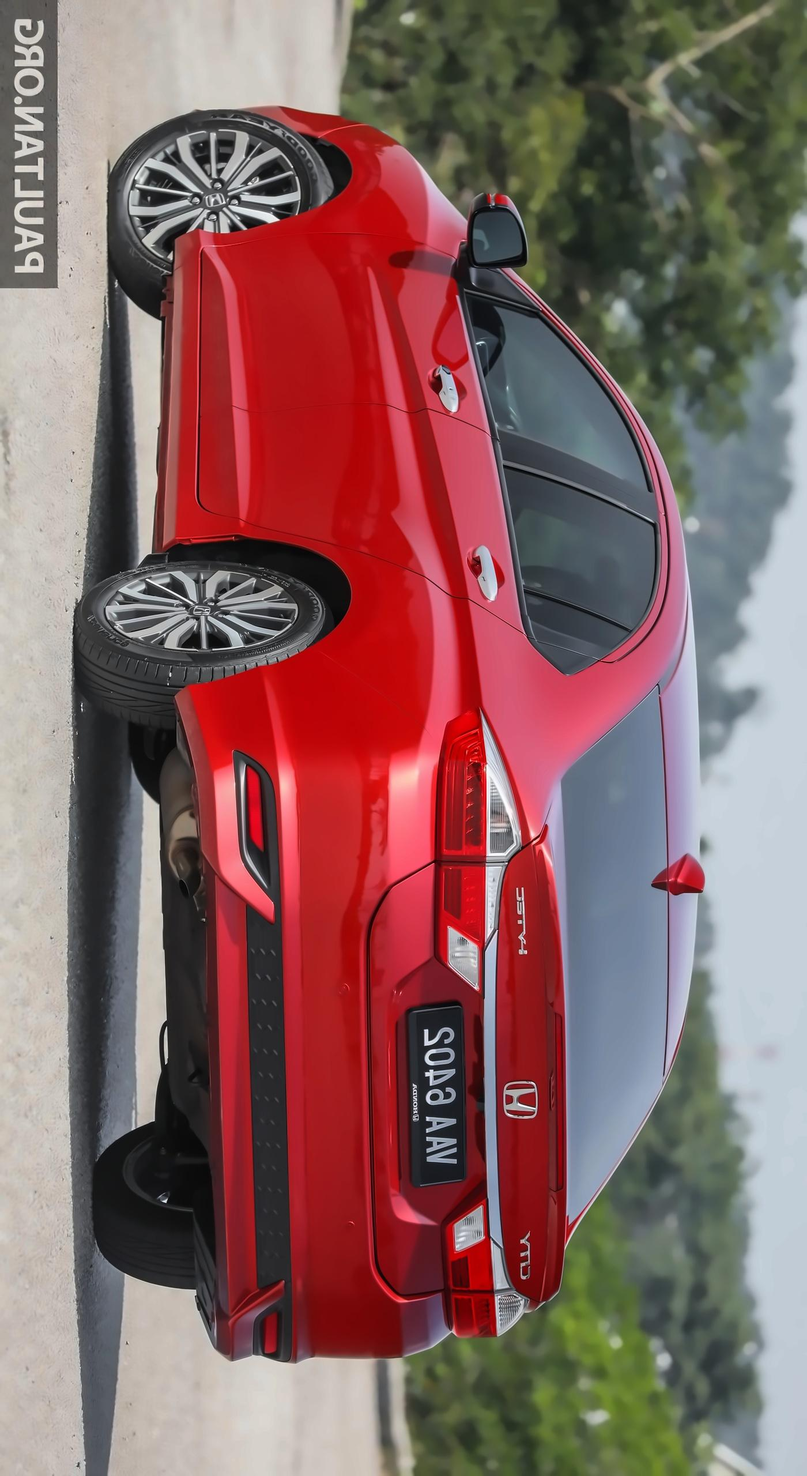Car boot: (355, 822, 578, 1299)
Fender - -F-L-: (176, 118, 507, 253)
Fender - -R-L-: (139, 511, 620, 757)
Front bumper: (211, 84, 389, 147)
Passenger-s door - -F-L-: (191, 234, 669, 448)
Passenger-s door - -R-L-: (185, 404, 685, 678)
Rear bumper: (133, 635, 441, 1380)
Rear light - -L-: (415, 692, 549, 1003)
Rear light - -R-: (424, 1179, 554, 1346)
Side bumper - -L-: (147, 217, 216, 568)
Side mirror - -L-: (447, 179, 551, 283)
